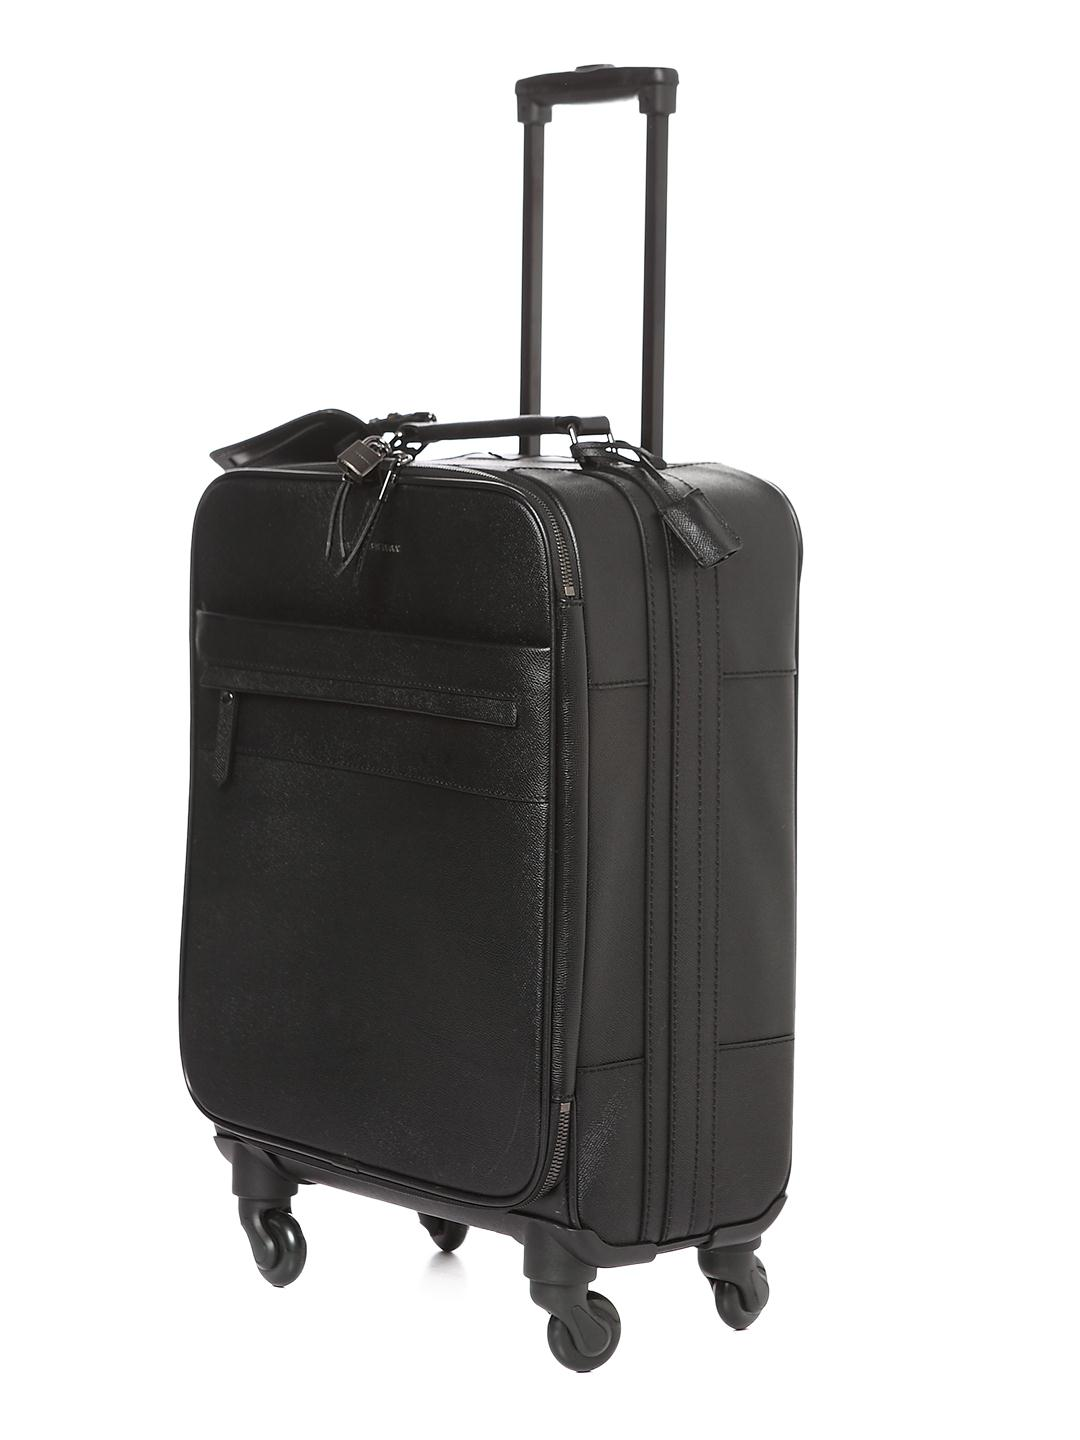suitcase: (177, 63, 825, 1372)
